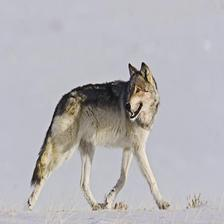WOLF: (30, 63, 162, 209)
